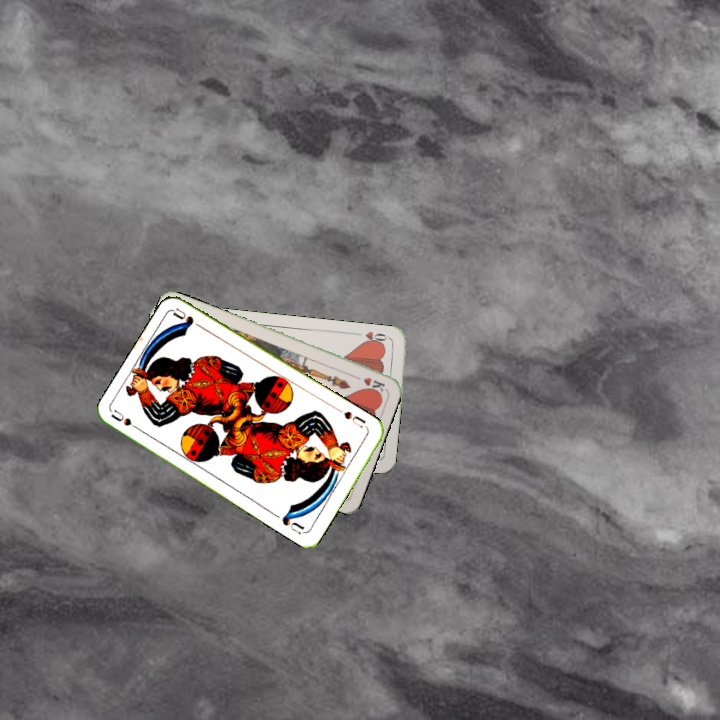HK: (348, 371, 388, 393)
HO: (352, 327, 392, 348)
SU: (108, 406, 146, 435), (340, 407, 368, 430)
